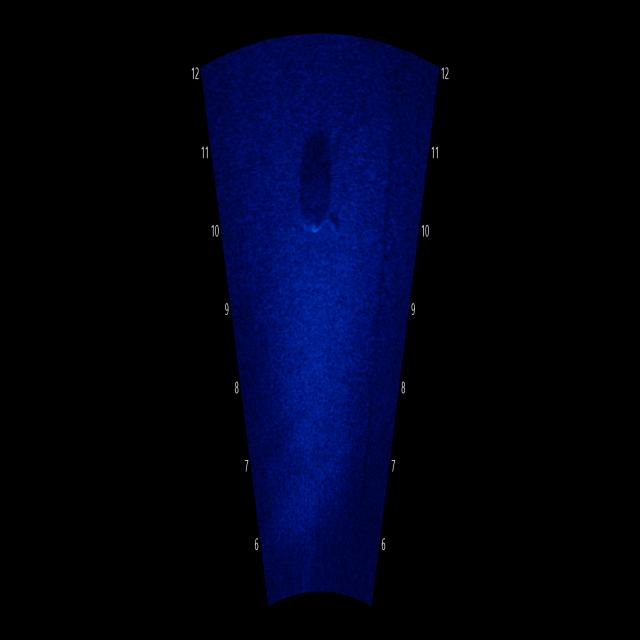circle: (295, 162, 335, 242)
